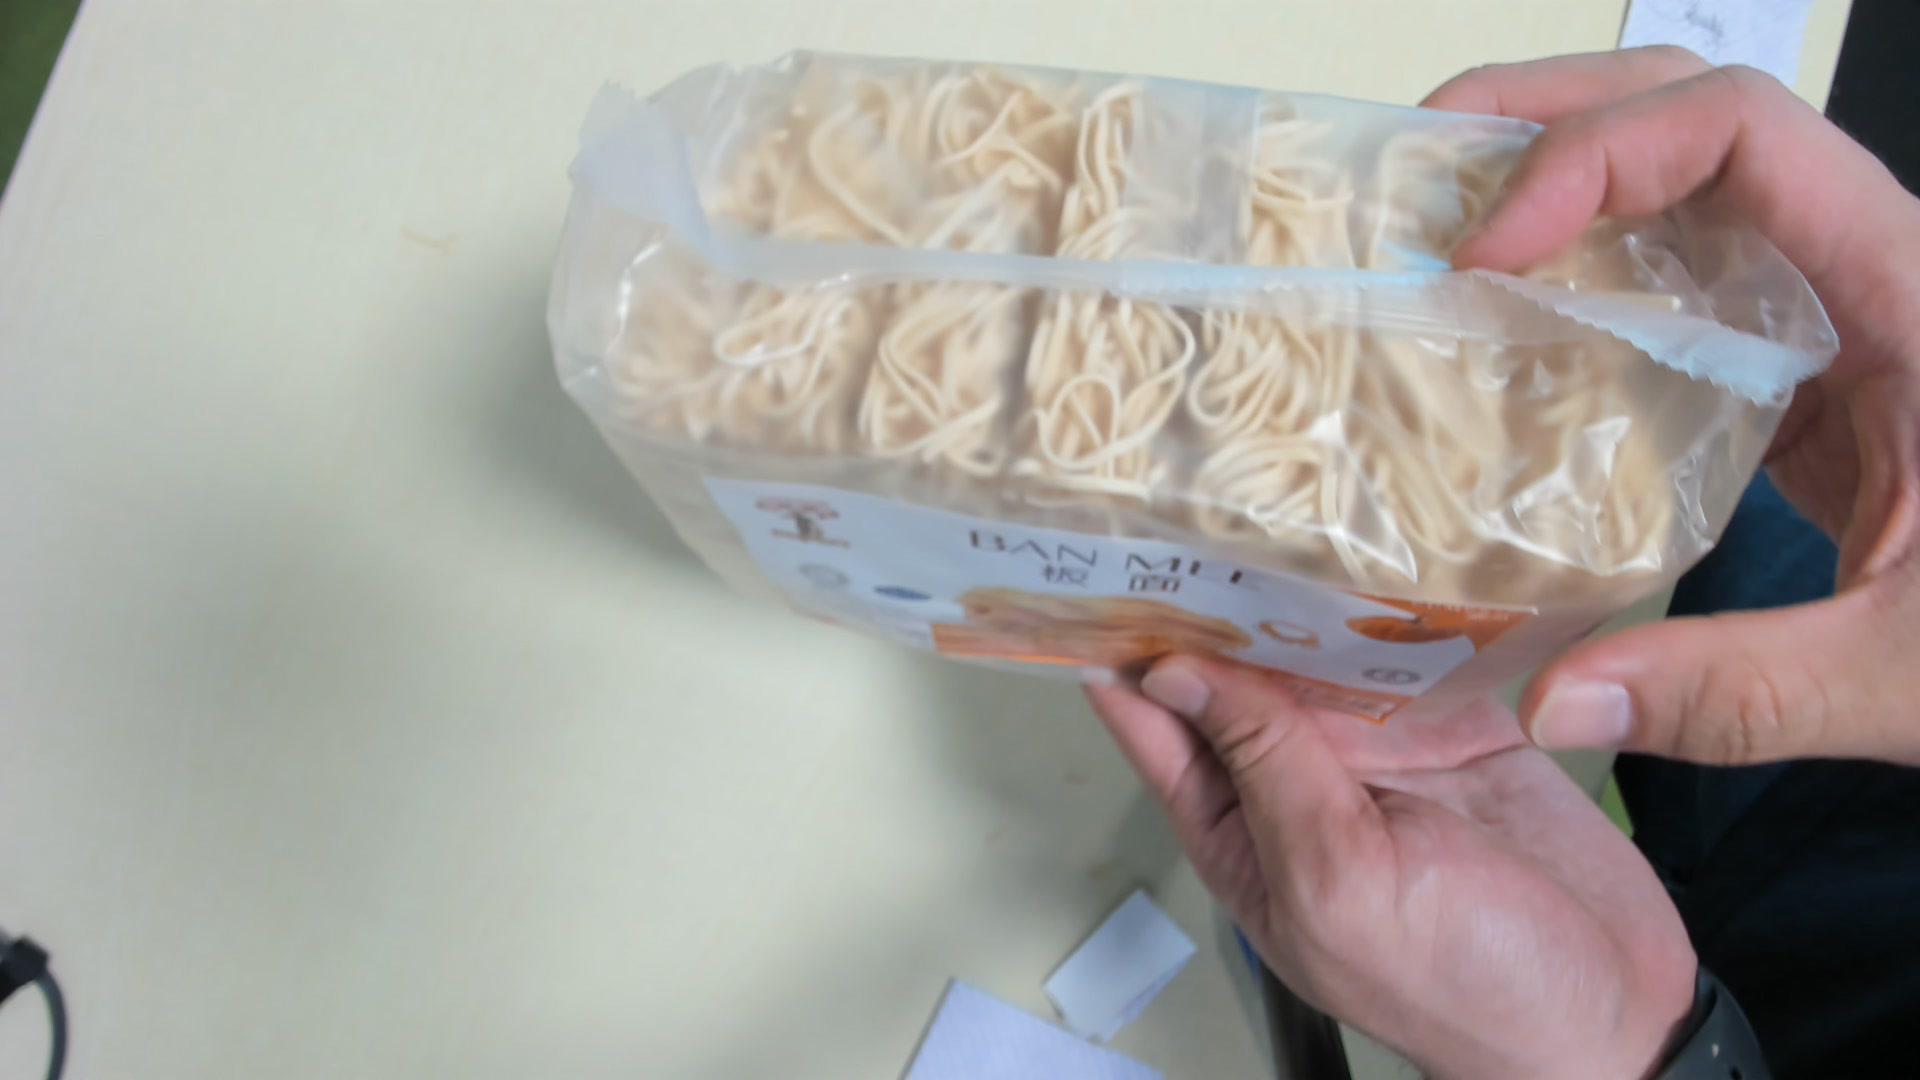OtherNoodles_500-599g_Halal_NonHealthy: (545, 47, 1799, 717)
